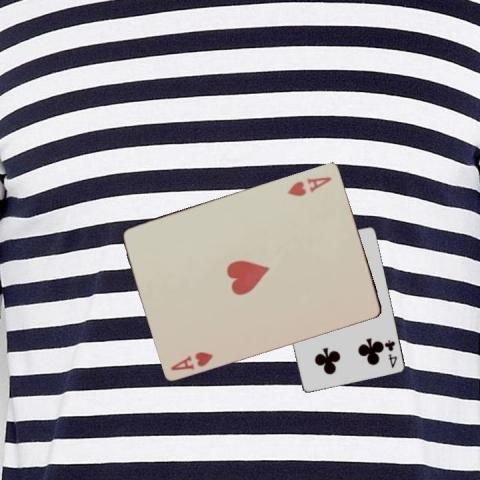4c: (381, 337, 398, 369)
Ah: (285, 174, 333, 198), (167, 348, 215, 372)
